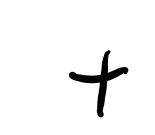plus: (69, 50, 129, 118)
